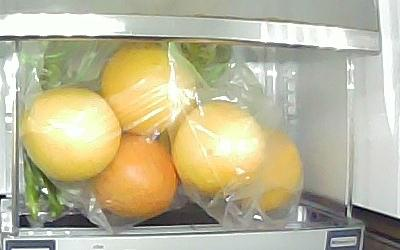grapefruit_vinyl: (20, 85, 122, 181), (98, 41, 194, 135), (171, 99, 266, 193), (93, 131, 179, 215), (253, 127, 301, 212)
